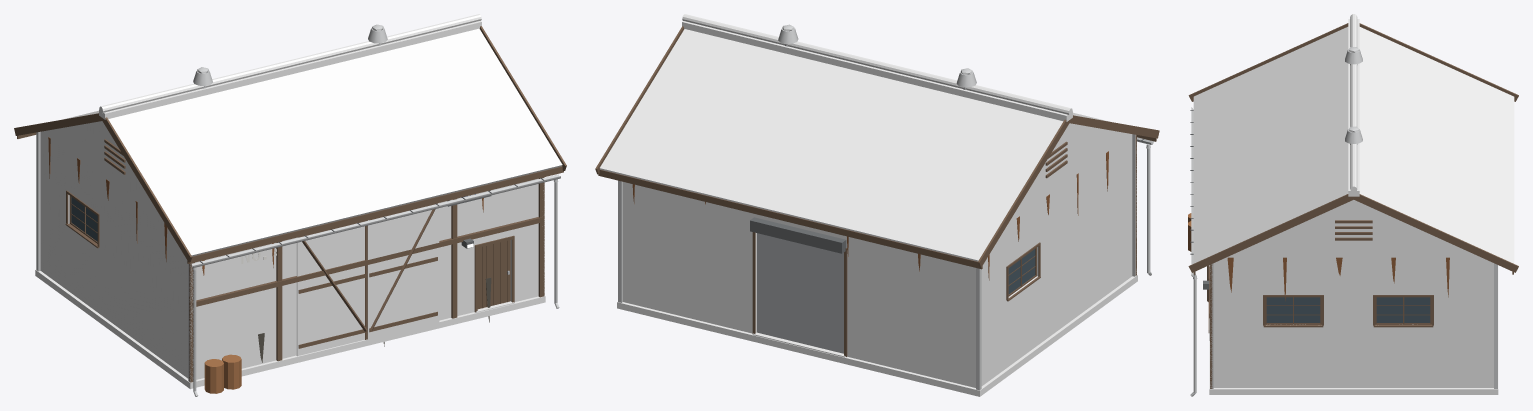
Rendered from warehouse_tin.glb.
The picture shows the model from 3 angles, left to right: view 1: azimuth 30°, elevation 25°; view 2: azimuth 150°, elevation 25°; view 3: azimuth 270°, elevation 25°; orthographic projection. The views are drawn at different scales.
Parts seen in each view (by area): view 1: warehouse_tin_body; view 2: warehouse_tin_body; view 3: warehouse_tin_body.
Boxes of the visible parts, x1,y1,x2,y2 form: warehouse_tin_body: [14, 14, 566, 396]; warehouse_tin_body: [595, 14, 1159, 396]; warehouse_tin_body: [1188, 14, 1518, 396].
Size of what is drawn, in the model's own units: 13 by 8.24 by 10.53.
